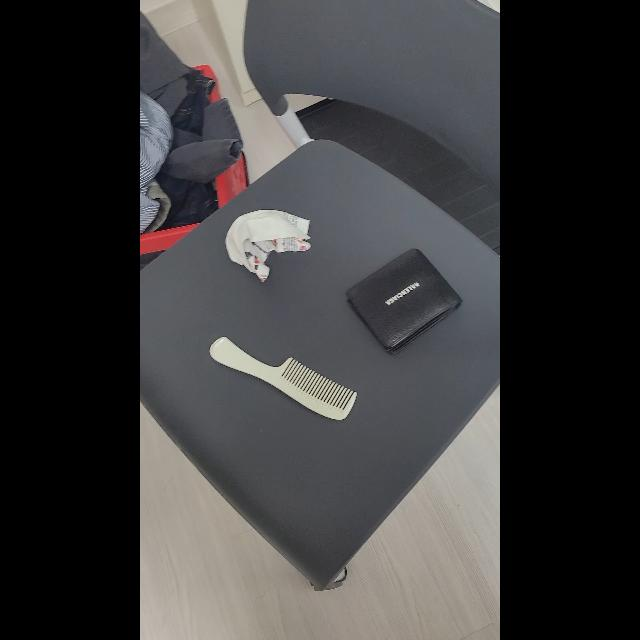COMB: (209, 336, 357, 420)
Glasses cleaning cloth: (225, 210, 311, 282)
WALLET: (345, 248, 463, 356)
